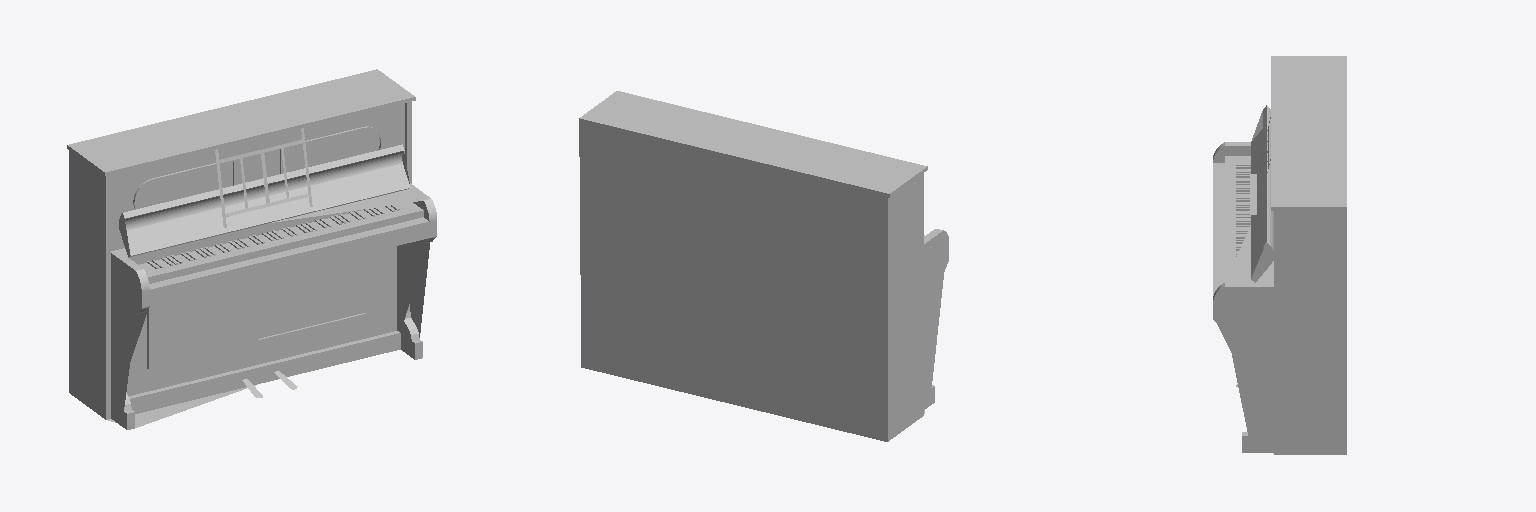
File: piano2.obj
3 renders of one model, left to right at view 1: azimuth 30°, elevation 25°; view 2: azimuth 150°, elevation 25°; view 3: azimuth 270°, elevation 25°, orthographic.
Parts seen in each view (by area): view 1: grp8, grp5, grp1, grp9, grp6, grp4, grp2, grp11, grp3; view 2: grp8, grp5; view 3: grp5, grp8, grp2, grp4, grp1, grp3.
Part boxes in pixels (left/top/right/bottom): grp8: left=67, top=107, right=289, bottom=429; grp5: left=223, top=69, right=436, bottom=382; grp1: left=125, top=151, right=410, bottom=255; grp9: left=124, top=160, right=267, bottom=410; grp6: left=259, top=127, right=436, bottom=341; grp4: left=144, top=205, right=407, bottom=281; grp2: left=119, top=144, right=409, bottom=257; grp11: left=215, top=128, right=312, bottom=227; grp3: left=147, top=205, right=399, bottom=268; grp8: left=734, top=129, right=948, bottom=441; grp5: left=579, top=91, right=771, bottom=404; grp5: left=1213, top=132, right=1346, bottom=454; grp8: left=1213, top=56, right=1346, bottom=230; grp2: left=1251, top=105, right=1273, bottom=282; grp4: left=1225, top=163, right=1250, bottom=280; grp1: left=1251, top=129, right=1263, bottom=277; grp3: left=1236, top=164, right=1250, bottom=256.
Size of the model in its own units: 1.49 by 1.14 by 0.5588.